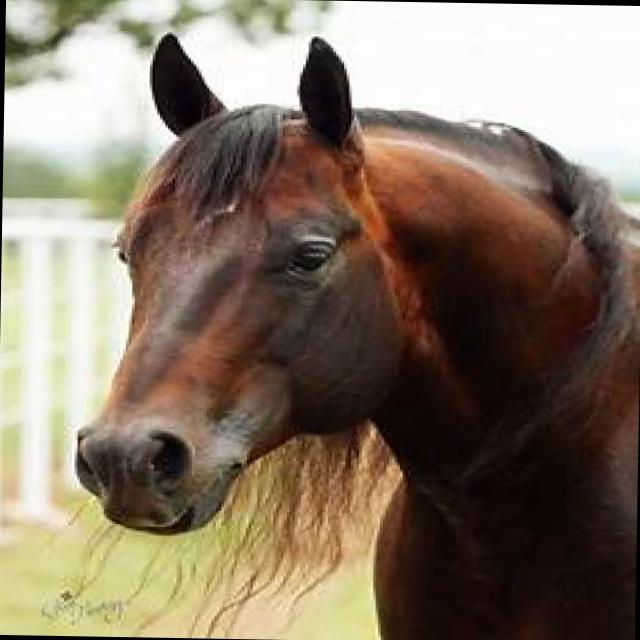horse: (78, 24, 640, 640)
